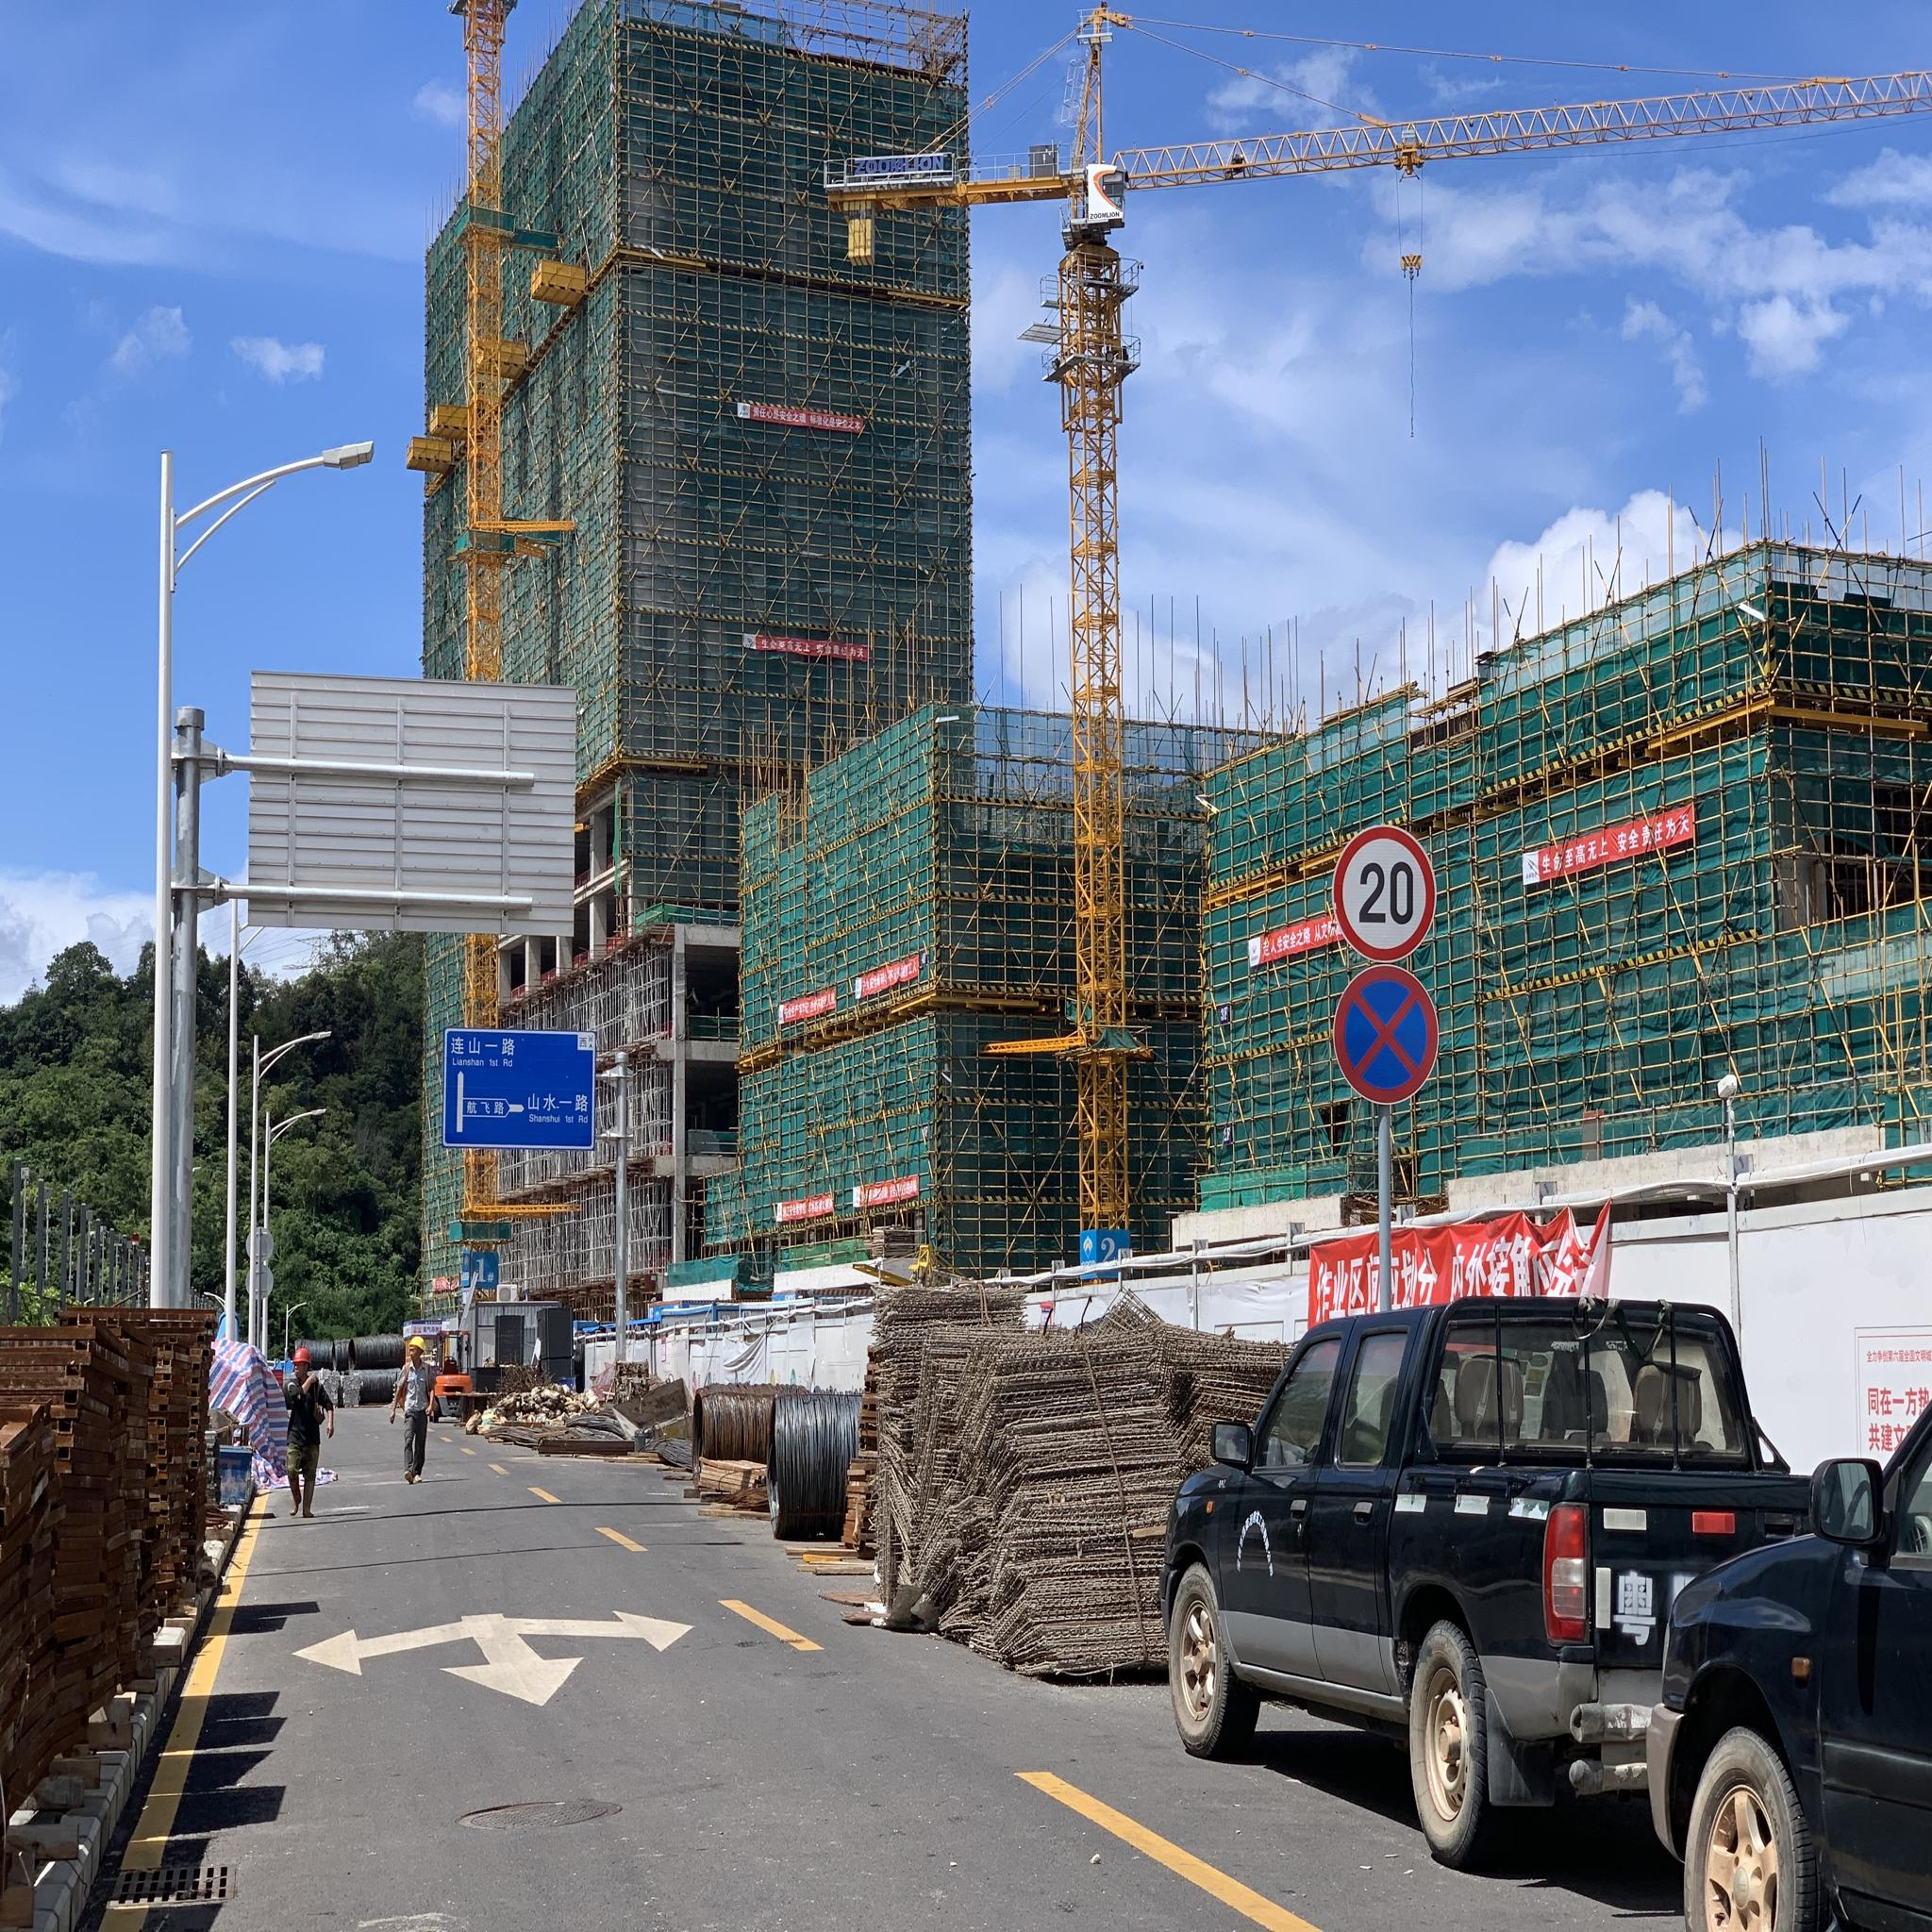pl20: (1322, 826, 1438, 952)
pn: (1332, 973, 1438, 1111)
